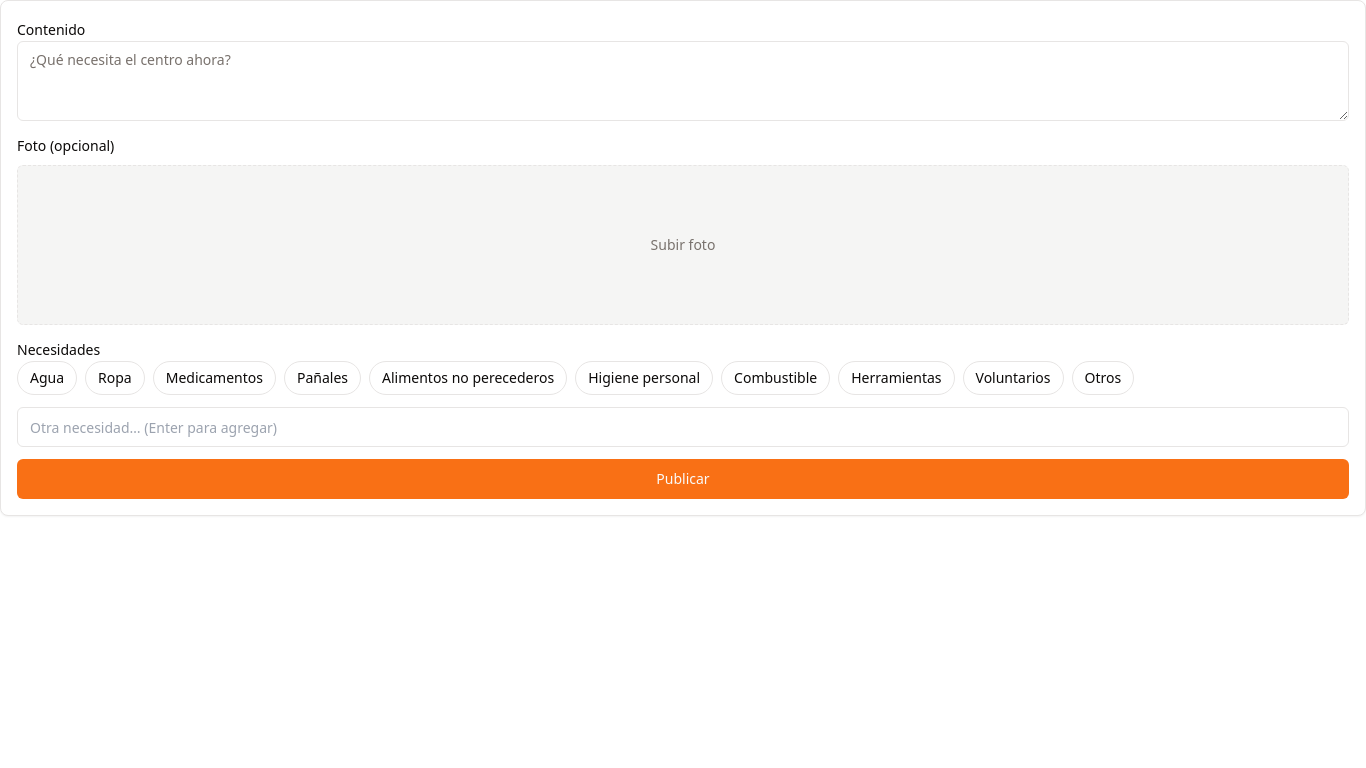
Test: PostForm › requires contenido to submit
Step 1. Click the button "Publicar" → [683, 479], box [17,459,1349,499]
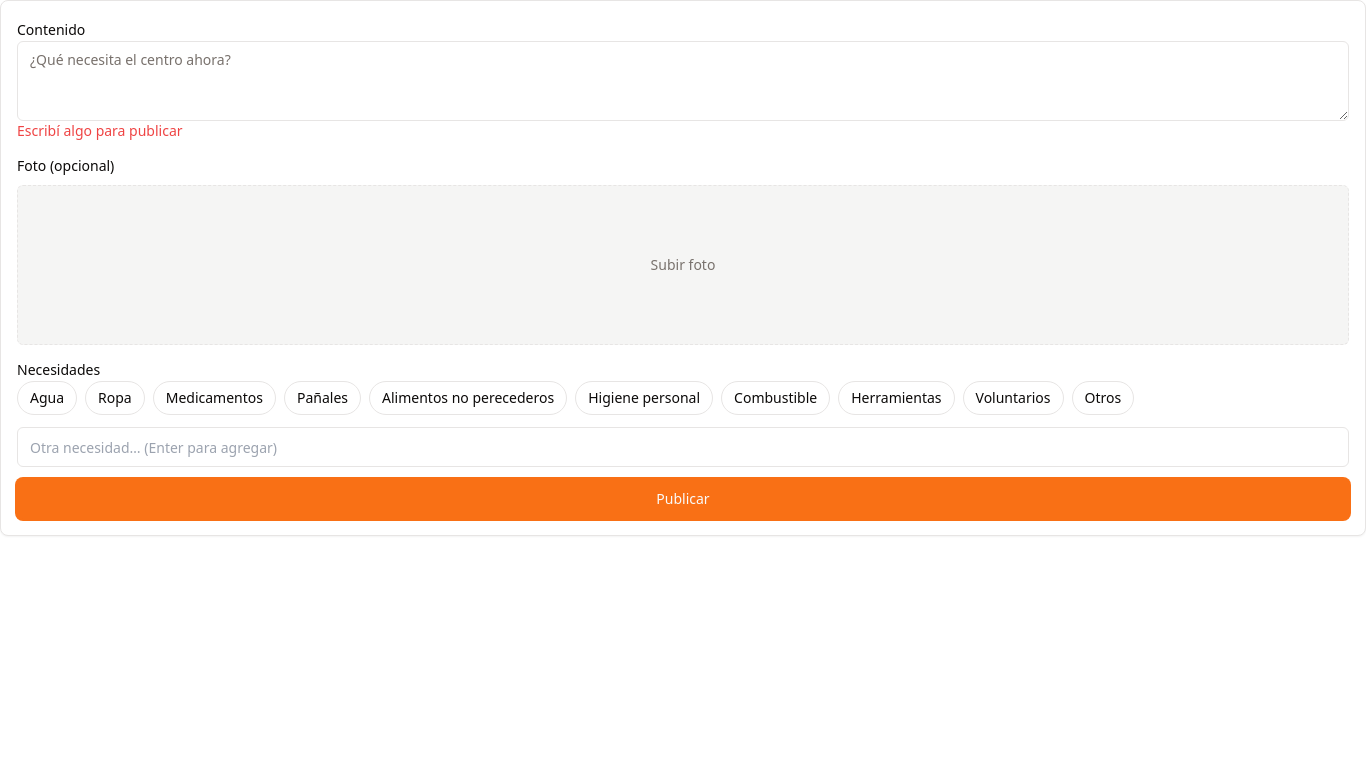
Now the text "Escribí algo para publicar" is shown, box [17,121,183,140]
